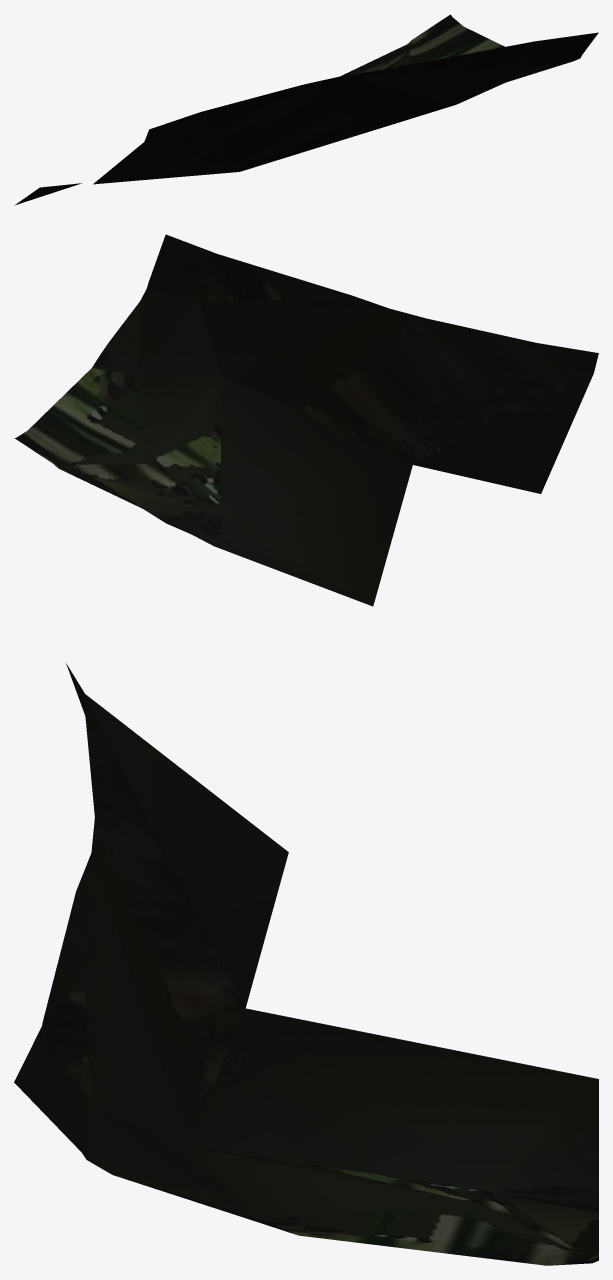
The picture shows the model from 3 angles, top to bottom: view 1: azimuth 30°, elevation 25°; view 2: azimuth 150°, elevation 25°; view 3: azimuth 270°, elevation 25°; orthographic projection. The views are drawn at different scales.
Bounding box in the file's own units: 0.8373 × 0.3211 × 0.4926.
2 materials, 2 textured.
